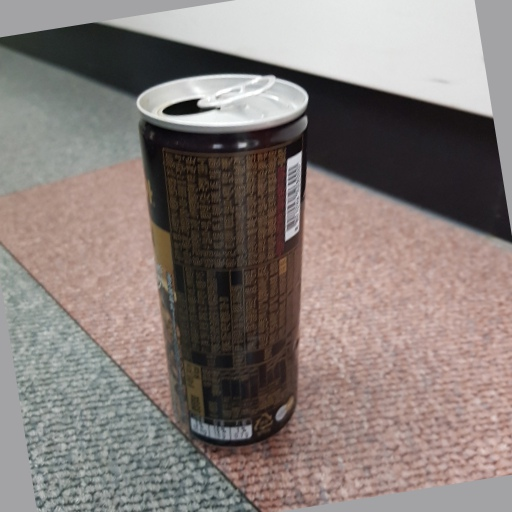Metal_0: (135, 70, 314, 451)
